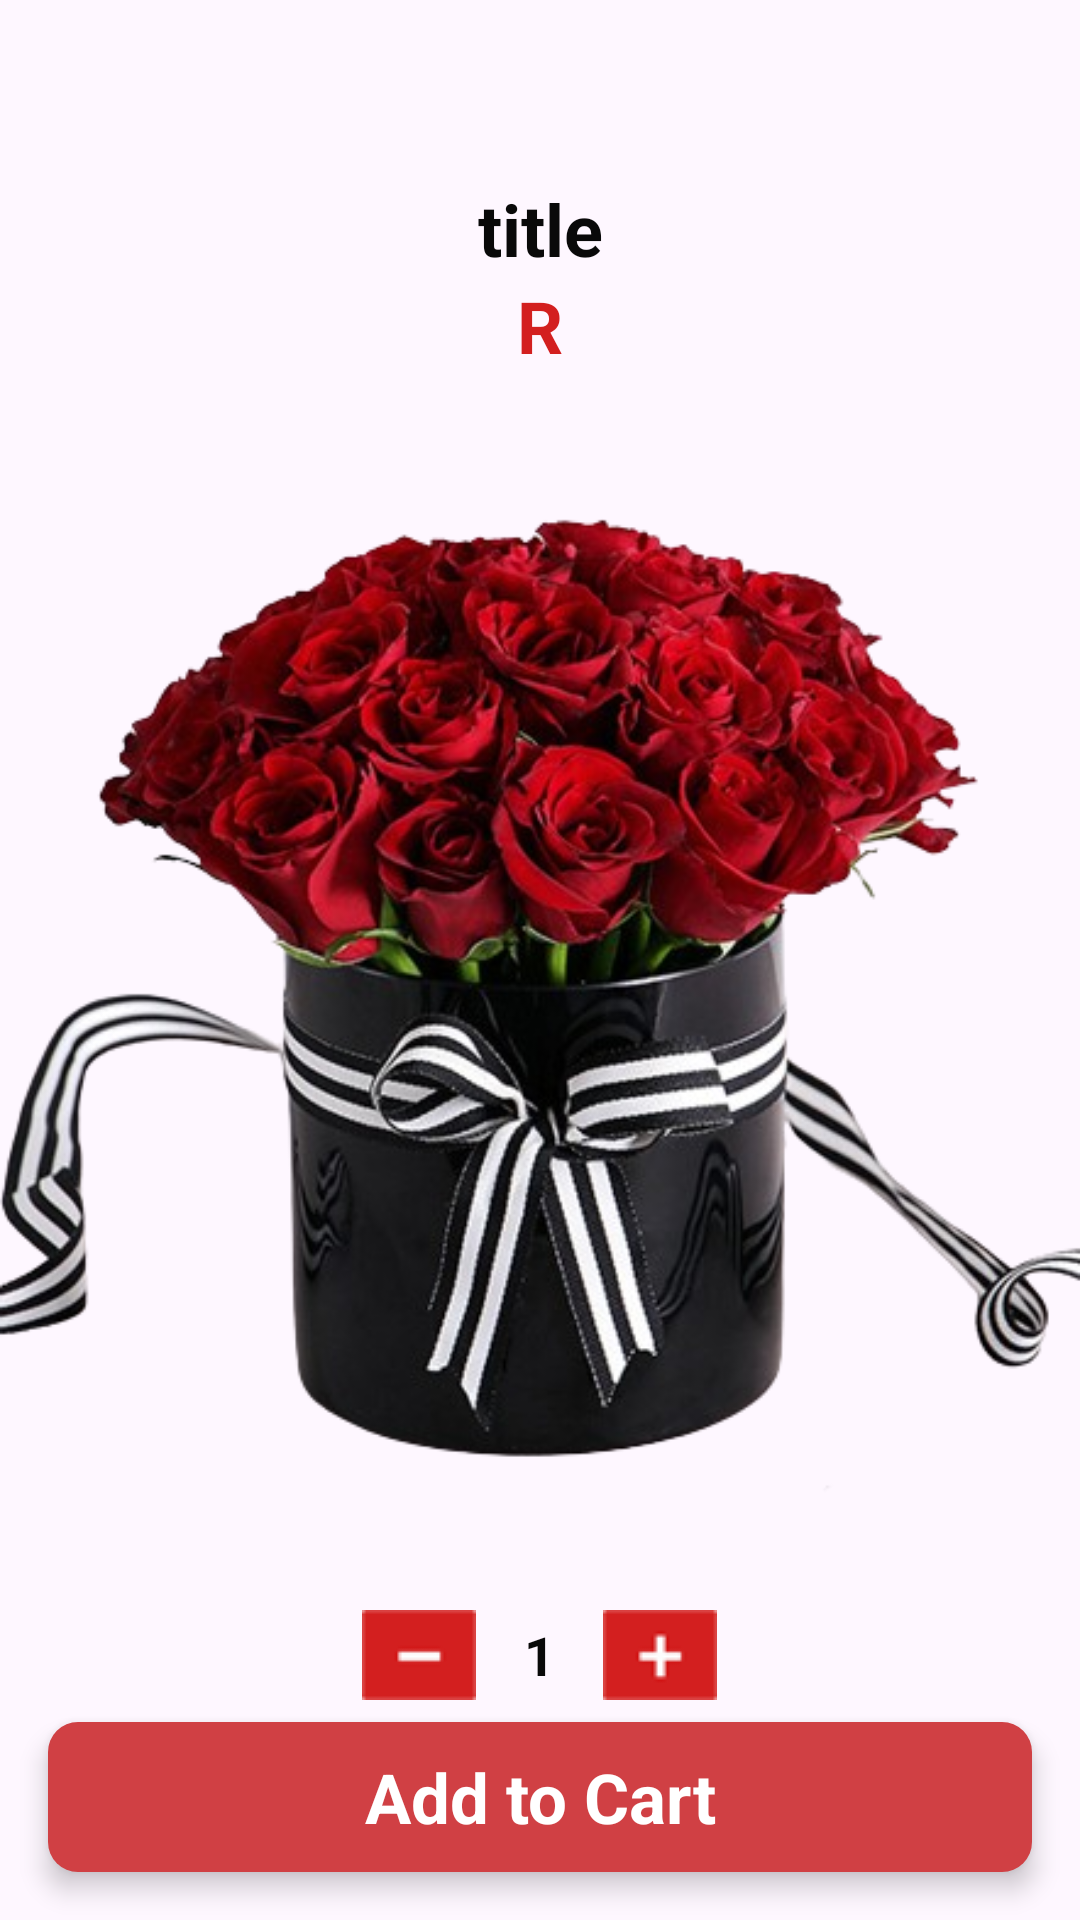

Point at icon controls on the screen. Image size 1080px x 1920px, points as (x=x, y=y).
minus: (x=419, y=1655)
plus: (x=660, y=1655)
